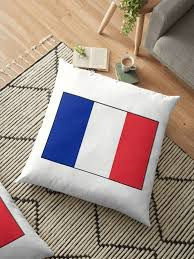French Flag: (44, 93, 159, 191)
